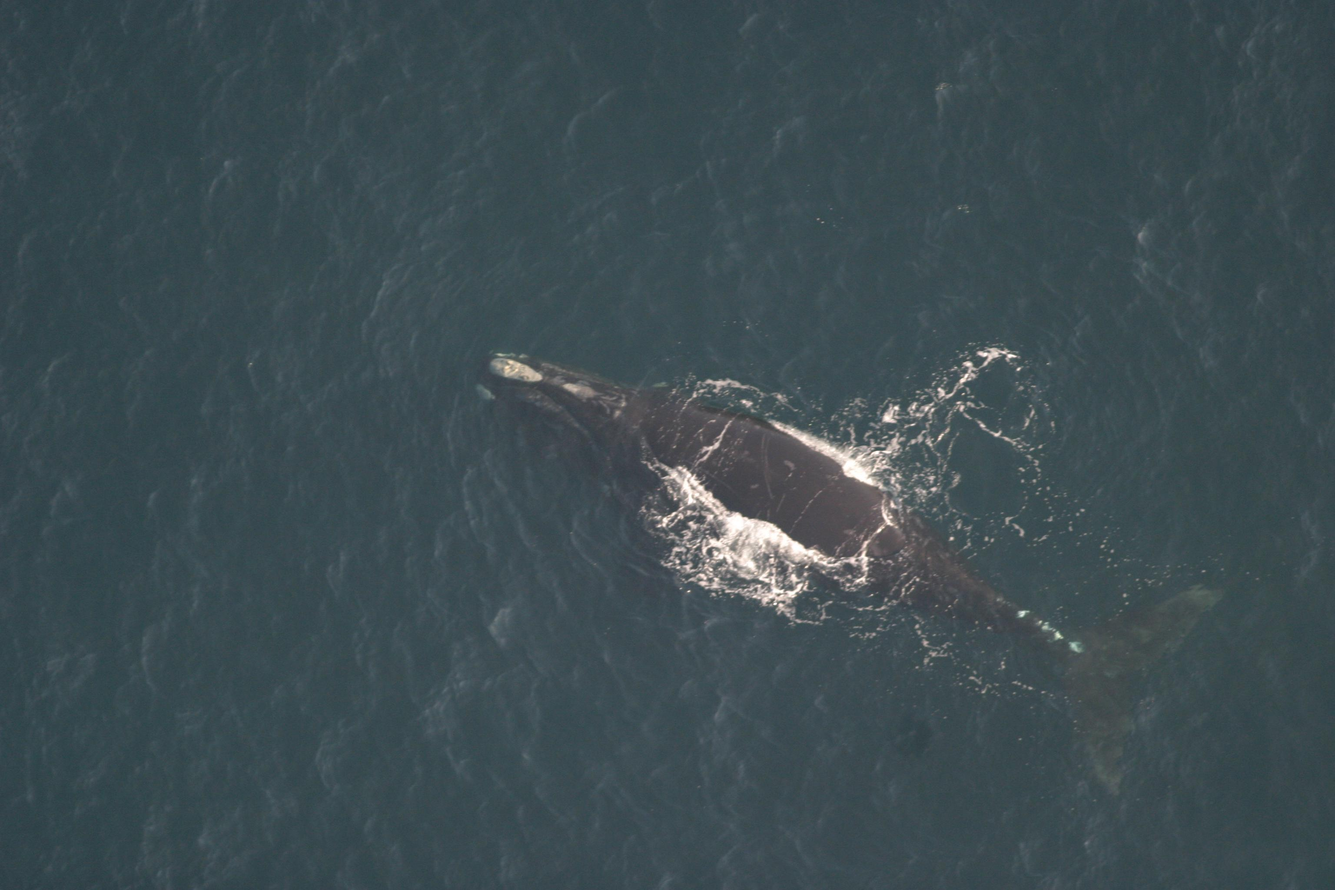whale: (465, 341, 1252, 826)
